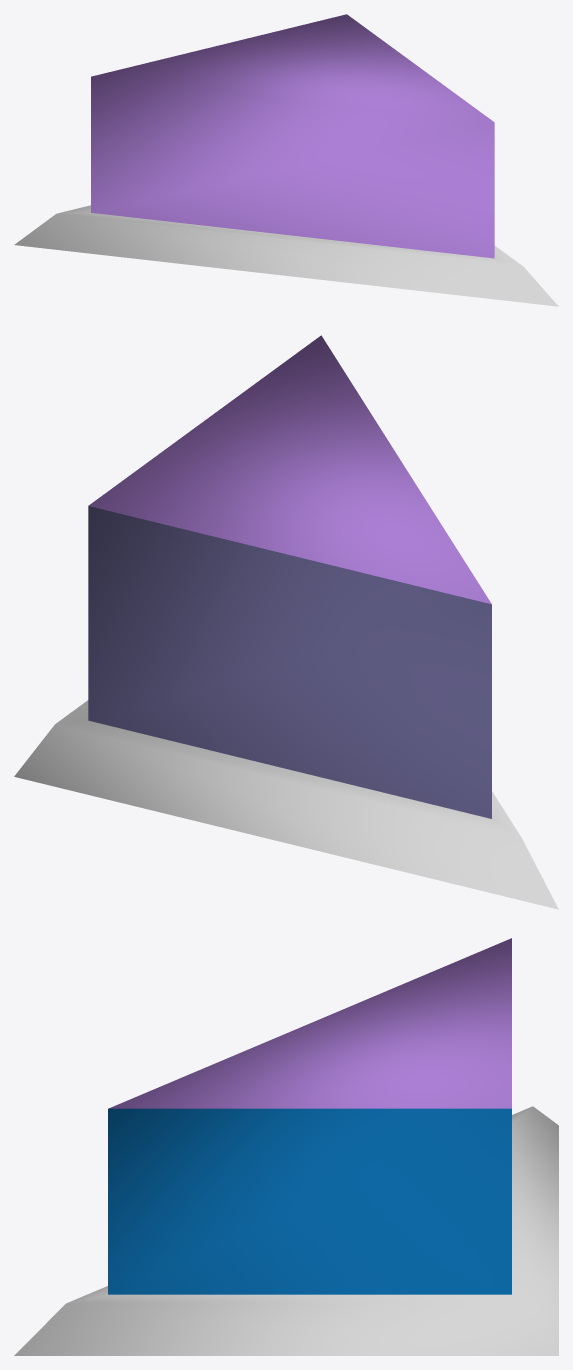
Rendered from prism.fbx.
3 renders of one model, top to bottom at view 1: azimuth 30°, elevation 25°; view 2: azimuth 150°, elevation 25°; view 3: azimuth 270°, elevation 25°, orthographic. The views are drawn at different scales.
Parts seen in each view (by area): view 1: Prism; view 2: Prism; view 3: Prism.
Boxes of the visible parts, x1,y1,x2,y2 form: Prism: [14, 14, 558, 306]; Prism: [14, 335, 558, 909]; Prism: [14, 938, 558, 1355].
Bounding box in the file's own units: 0.5713 × 0.2629 × 0.5713.
